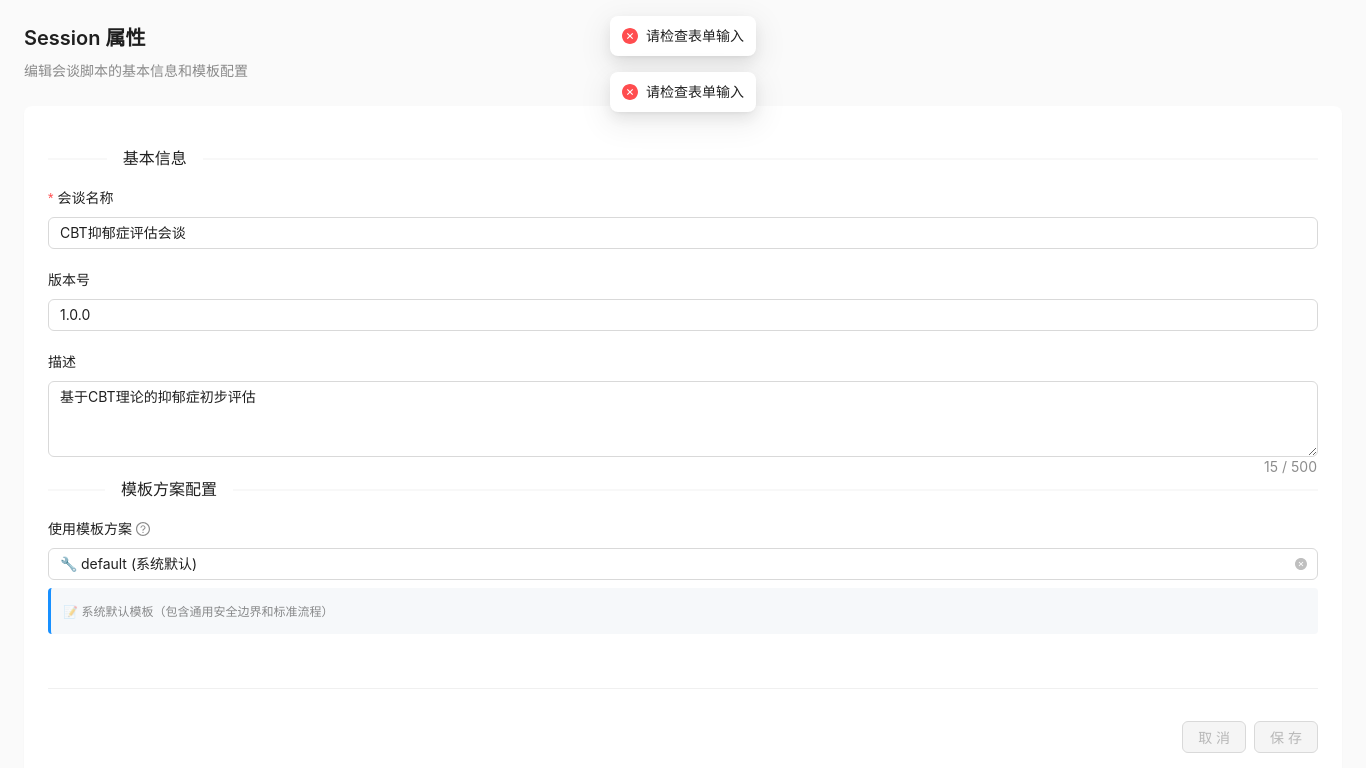
SessionPropertyPanel 组件 › 保存和取消功能 › 修改后保存按钮应该启用
Check: the button with test id "btn-save" is disabled, box [1254,721,1318,753]
Replace the text in the field with test id "input-name" with "修改后的名称" at (683, 233), box [48,217,1318,249]
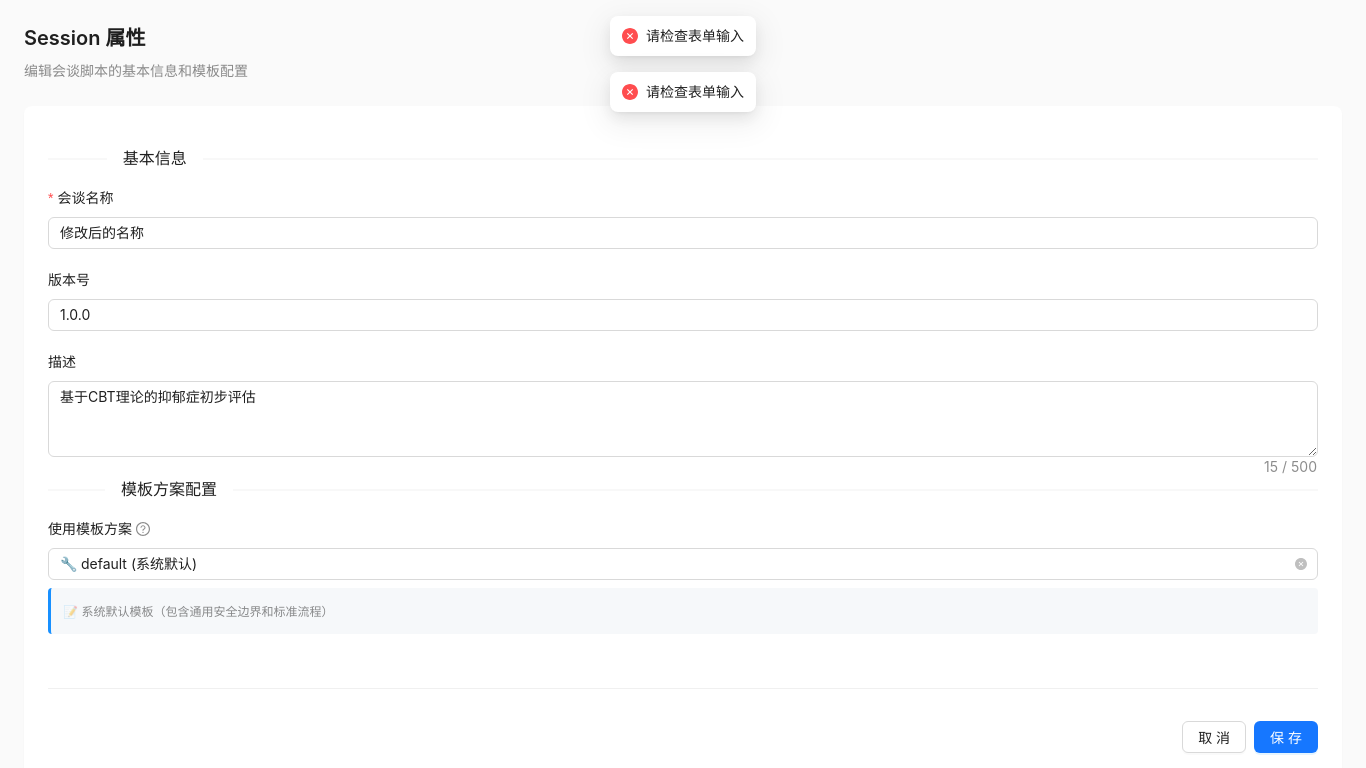
Check: the button with test id "btn-save" is enabled, box [1254,721,1318,753]
